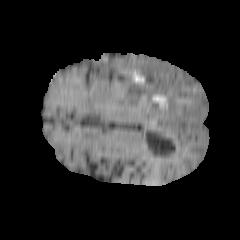glioma: (94, 56, 187, 128)
